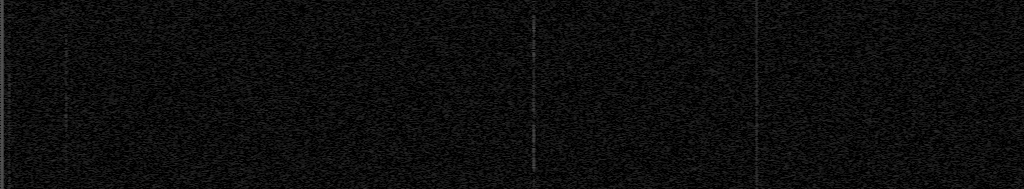wv_am: (754, 0, 759, 189)
wv_cw: (0, 0, 5, 189)
wv_lsb: (531, 4, 537, 188), (240, 134, 244, 171), (240, 174, 244, 189), (240, 81, 244, 92), (240, 57, 244, 67), (240, 7, 244, 16), (240, 17, 244, 23), (240, 112, 244, 118), (240, 94, 244, 100), (240, 124, 244, 129), (240, 2, 244, 6), (240, 72, 244, 75), (240, 68, 244, 71), (241, 108, 244, 111)
wv_usb: (64, 43, 69, 156), (7, 74, 12, 138), (7, 139, 12, 189), (64, 1, 69, 42), (7, 14, 12, 32), (7, 56, 12, 73), (7, 0, 12, 13), (7, 33, 12, 45), (64, 171, 68, 183), (7, 46, 12, 55), (64, 157, 68, 164), (64, 185, 69, 189), (64, 165, 68, 170)
